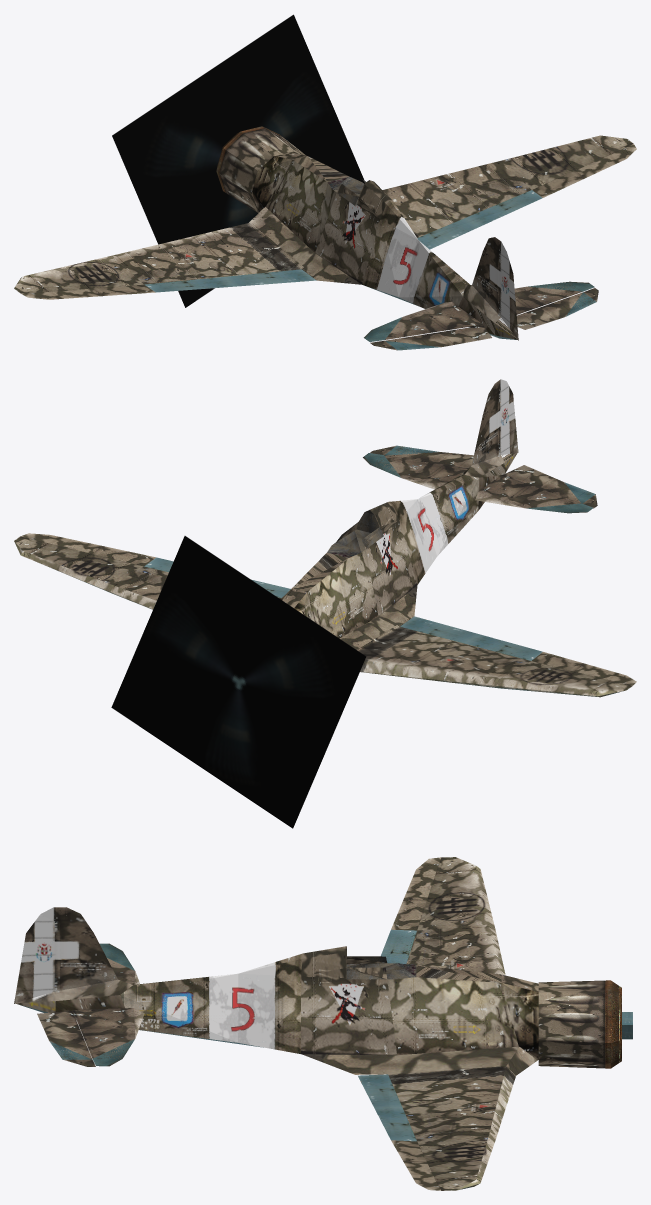
The model's file is Helper.fbx.
3 views of the same model, one above another, from view 1: azimuth 30°, elevation 25°; view 2: azimuth 150°, elevation 25°; view 3: azimuth 270°, elevation 25° (orthographic). The views are drawn at different scales.
Visible parts, largest first — view 1: BODY, bluur; view 2: BODY, bluur; view 3: BODY.
Part boxes in pixels (x1,y1,x2,y2): BODY: (14,126,636,350); bluur: (112,14,364,307); BODY: (14,379,636,697); bluur: (111,536,366,828); BODY: (14,857,632,1190).
Bounding box in the file's own units: 1016 × 423 × 802.
